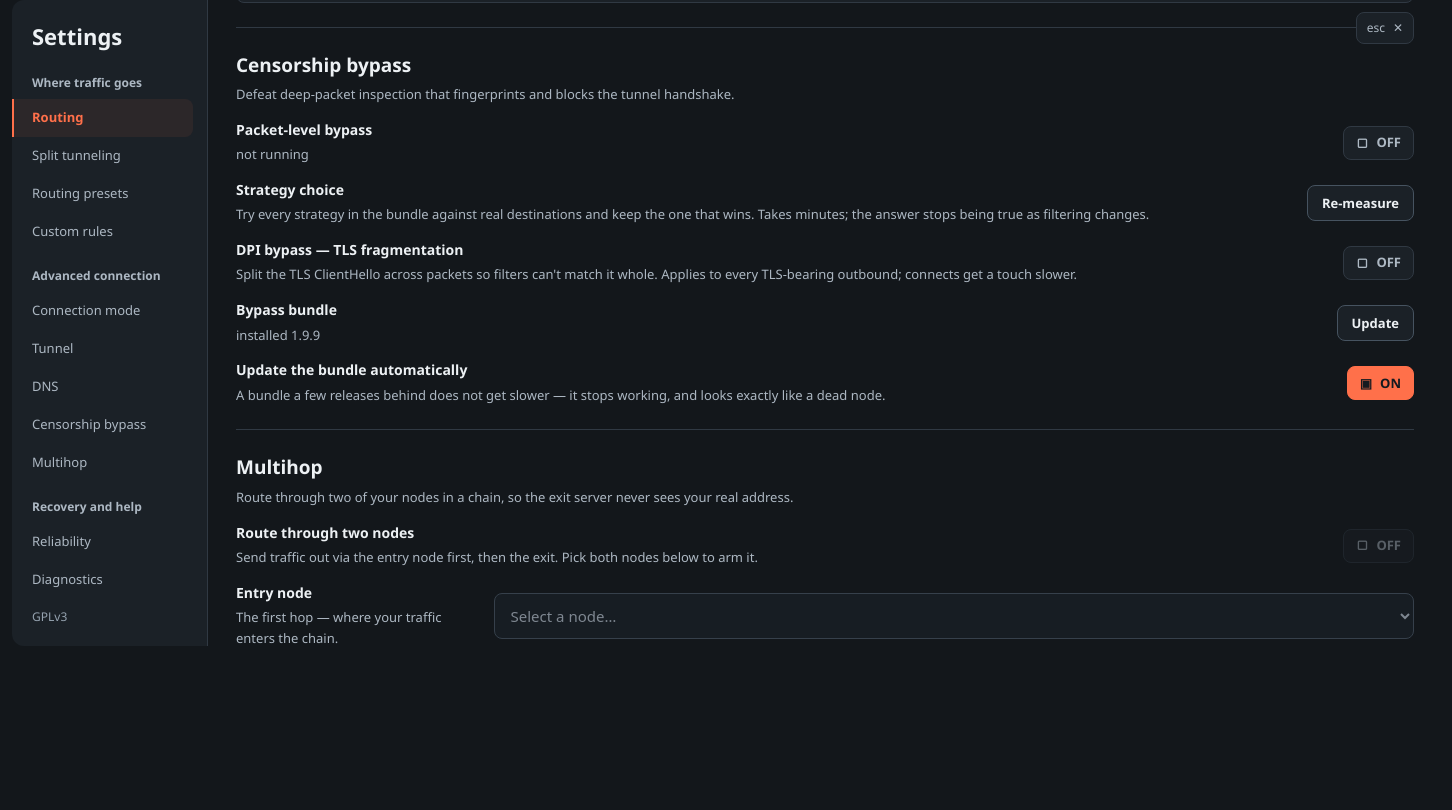
Test: SettingsScreen — bypass bundle › reports an update with both versions
(page scrolled)
Click the button "Update".
click(1375, 323)  # box [1336,305,1414,341]
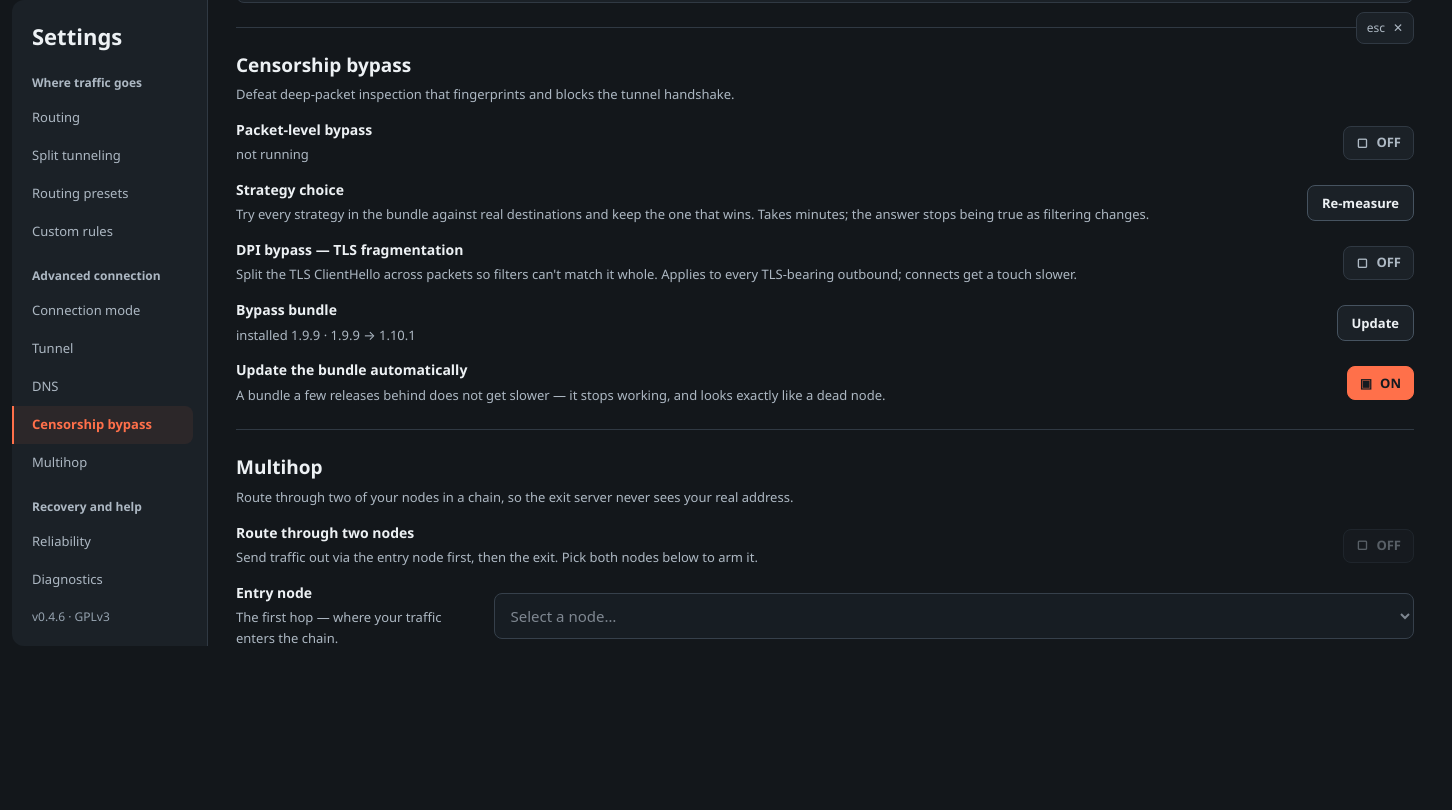
Expected: the text "installed 1.9.9 · 1.9.9 → 1.10.1" is shown, [236,324,416,345]
